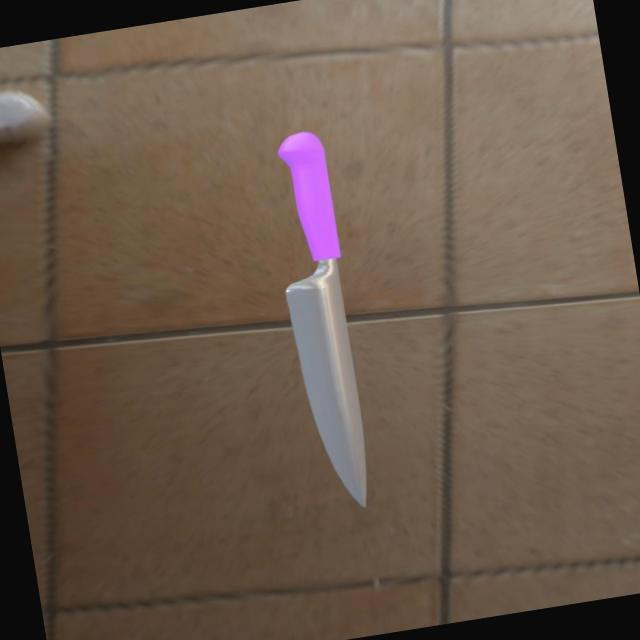knife: (276, 128, 342, 266)
